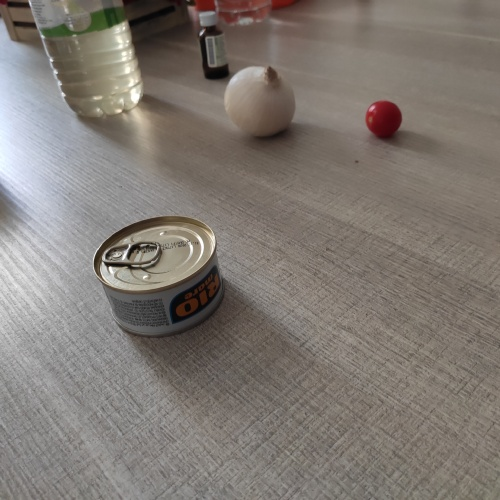cipolla: (218, 59, 304, 144)
pomodoro: (362, 95, 408, 146)
tonno: (87, 213, 235, 344)
